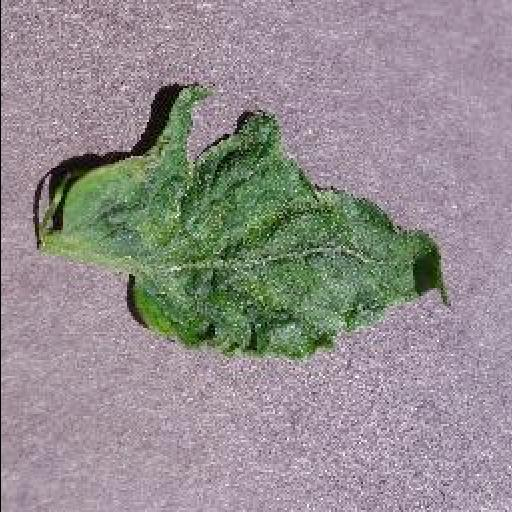Mosaic Virus: (64, 82, 460, 362)
